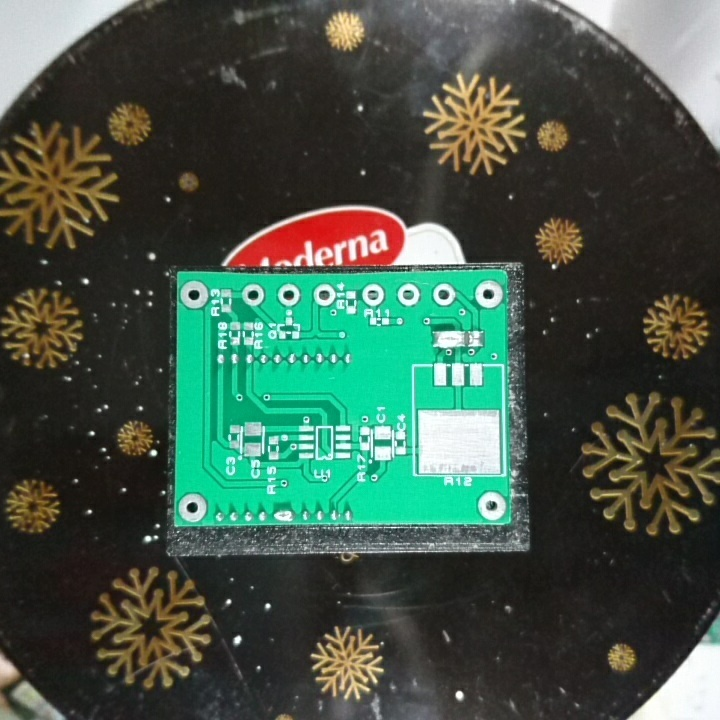F: (471, 278, 505, 312), (474, 488, 508, 522), (177, 492, 211, 523), (179, 280, 210, 312), (358, 280, 388, 309), (274, 283, 303, 309), (429, 282, 459, 307), (394, 281, 421, 308), (311, 281, 336, 307), (240, 283, 267, 306)
P: (428, 327, 466, 350), (270, 506, 295, 525)
